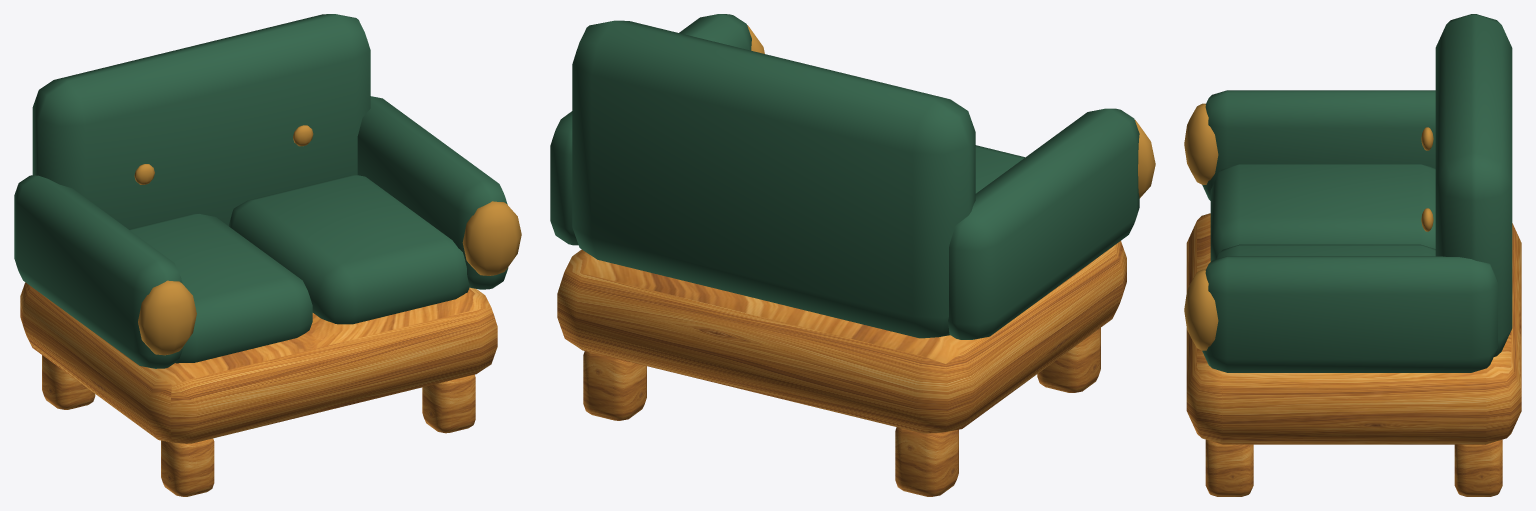
Rendered from sofa.glb.
The picture shows the model from 3 angles, left to right: view 1: azimuth 30°, elevation 25°; view 2: azimuth 150°, elevation 25°; view 3: azimuth 270°, elevation 25°; orthographic projection. The views are drawn at different scales.
Parts seen in each view (by area): view 1: sofa; view 2: sofa; view 3: sofa.
Boxes of the visible parts, x1=… form: sofa: x1=14, y1=14, x2=521, y2=496; sofa: x1=550, y1=14, x2=1155, y2=496; sofa: x1=1184, y1=14, x2=1521, y2=496.
Size of the model in its own units: 0.9531 by 0.785 by 0.705.
3 materials, 1 textured.
